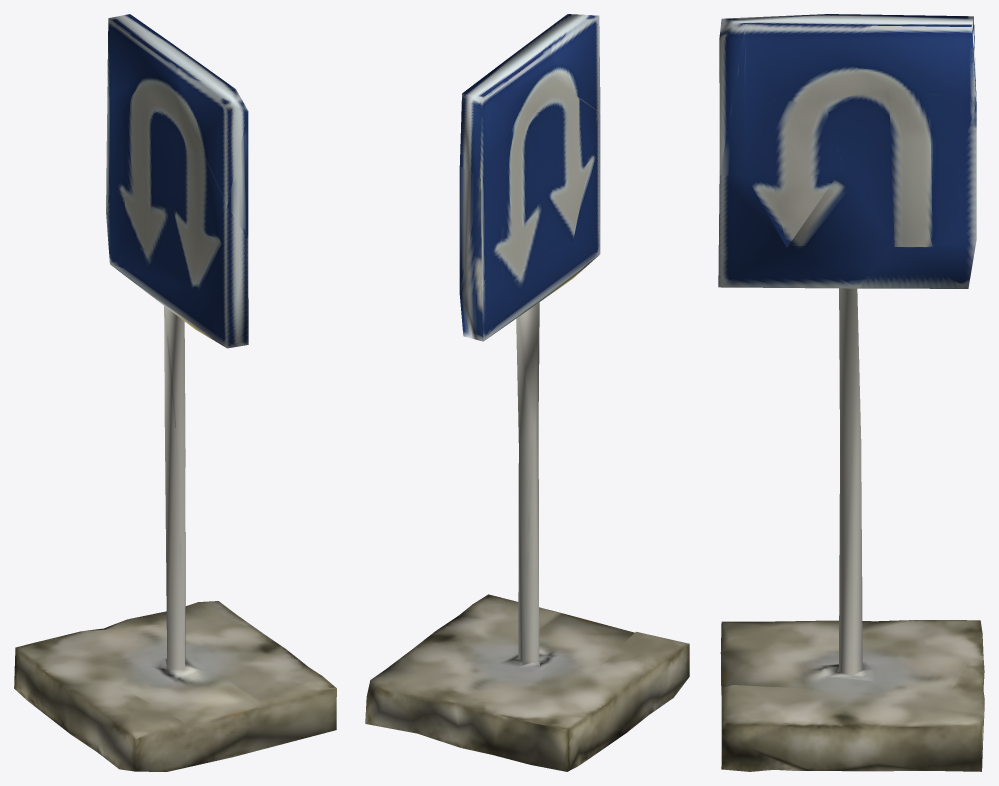
File: putar_kiri.glb
3 views of the same model, side by side, from view 1: azimuth 30°, elevation 25°; view 2: azimuth 150°, elevation 25°; view 3: azimuth 270°, elevation 25° (orthographic). The views are drawn at different scales.
Visible parts, largest first — view 1: tripo_node_9945ce5c; view 2: tripo_node_9945ce5c; view 3: tripo_node_9945ce5c.
Boxes of the visible parts, bbox=[...] form: tripo_node_9945ce5c: bbox=[14, 14, 336, 771]; tripo_node_9945ce5c: bbox=[365, 14, 689, 771]; tripo_node_9945ce5c: bbox=[718, 14, 984, 771].
Size of the model in its own units: 32.63 by 99.82 by 34.33.
1 material, 1 textured.
